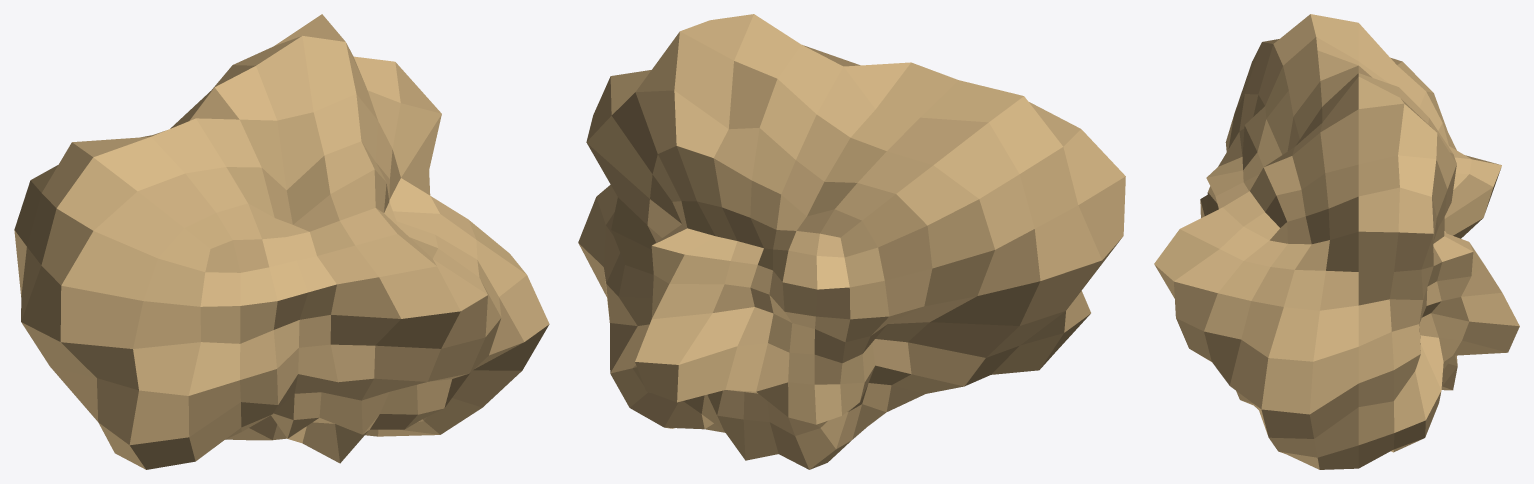
Rendered from AsteriodTwo.dae.
3 views of the same model, side by side, from view 1: azimuth 30°, elevation 25°; view 2: azimuth 150°, elevation 25°; view 3: azimuth 270°, elevation 25° (orthographic). The views are drawn at different scales.
Parts seen in each view (by area): view 1: Still_not_a_cube__; view 2: Still_not_a_cube__; view 3: Still_not_a_cube__.
Boxes of the visible parts, bbox=[...] form: Still_not_a_cube__: bbox=[14, 14, 549, 469]; Still_not_a_cube__: bbox=[578, 14, 1125, 469]; Still_not_a_cube__: bbox=[1154, 14, 1519, 469].
Size of the model in its own units: 2.3 by 1.65 by 1.74.
